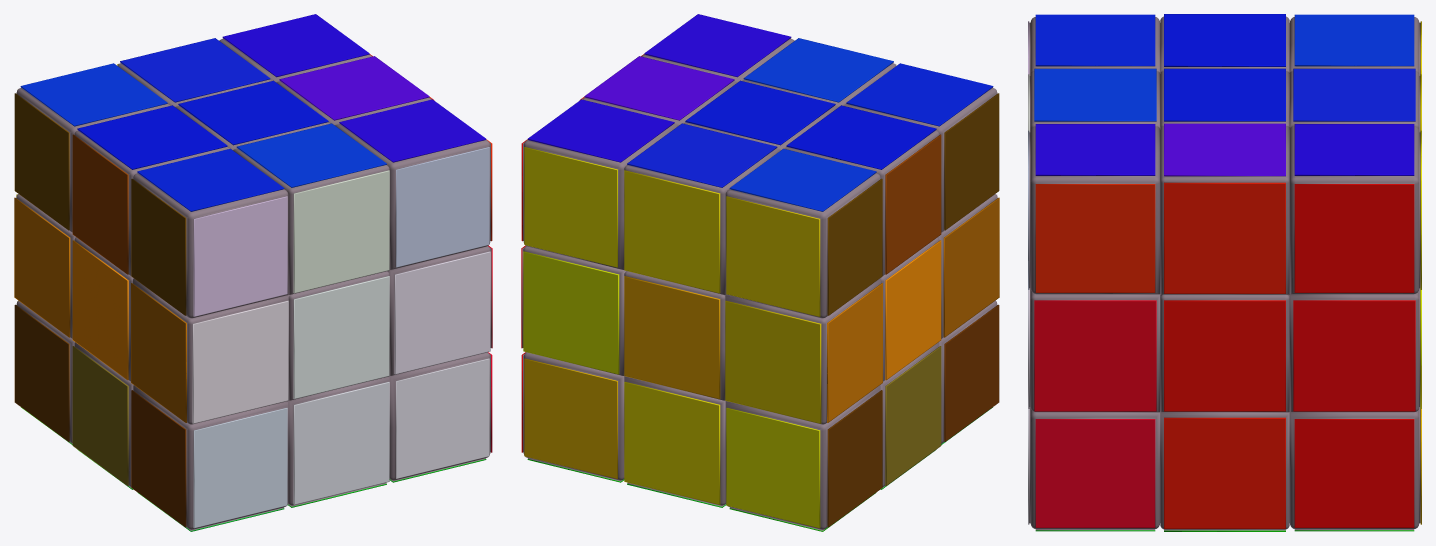
The model's file is rubics_cube_old.fbx.
The picture shows the model from 3 angles, left to right: view 1: azimuth 30°, elevation 25°; view 2: azimuth 150°, elevation 25°; view 3: azimuth 270°, elevation 25°; orthographic projection. The views are drawn at different scales.
Parts seen in each view (by area): view 1: rubics_cube; view 2: rubics_cube; view 3: rubics_cube.
Part boxes in pixels (x1,y1,x2,y2): rubics_cube: [14, 14, 492, 531]; rubics_cube: [521, 14, 999, 531]; rubics_cube: [1028, 14, 1421, 531].
Size of the model in its own units: 608 by 608 by 608.
